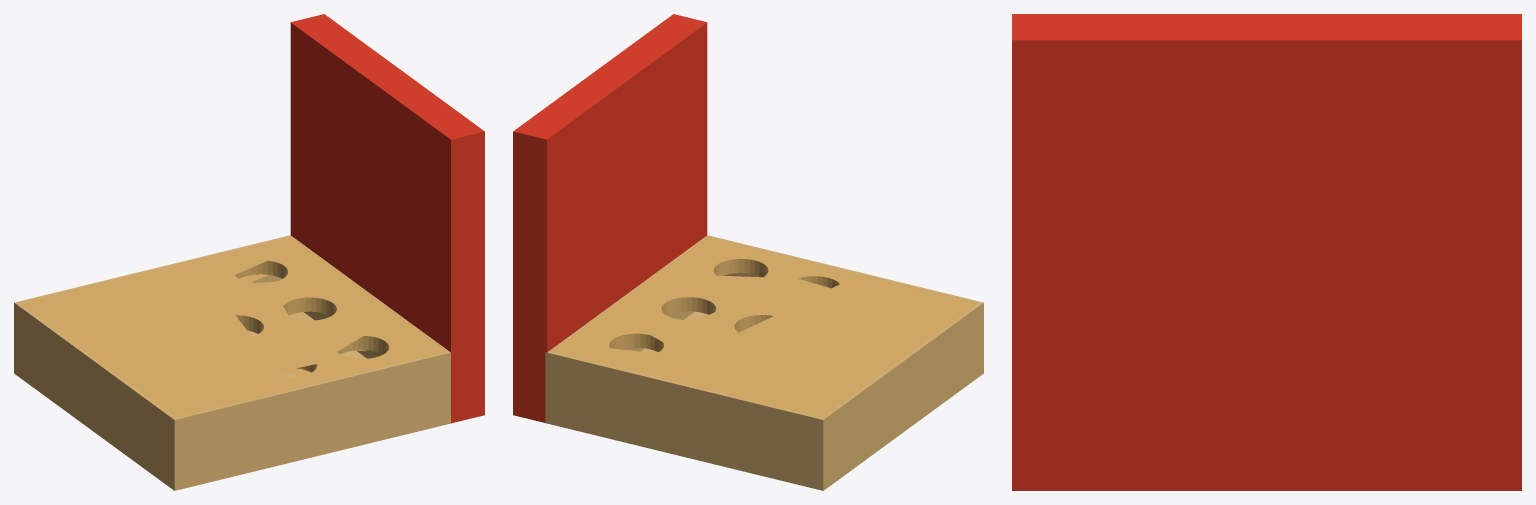
The model's file is wackamolebase.fbx.
3 renders of one model, left to right at view 1: azimuth 30°, elevation 25°; view 2: azimuth 150°, elevation 25°; view 3: azimuth 270°, elevation 25°, orthographic. The views are drawn at different scales.
Visible parts, largest first — view 1: Cube.001, Cube.002; view 2: Cube.001, Cube.002; view 3: Cube.002.
Boxes of the visible parts, left/top/right/bottom form: Cube.001: left=14, top=235, right=450, bottom=490; Cube.002: left=290, top=14, right=484, bottom=423; Cube.001: left=545, top=235, right=983, bottom=490; Cube.002: left=513, top=14, right=707, bottom=422; Cube.002: left=1012, top=14, right=1521, bottom=490.
Bounding box in the file's own units: 915 × 800 × 820.
